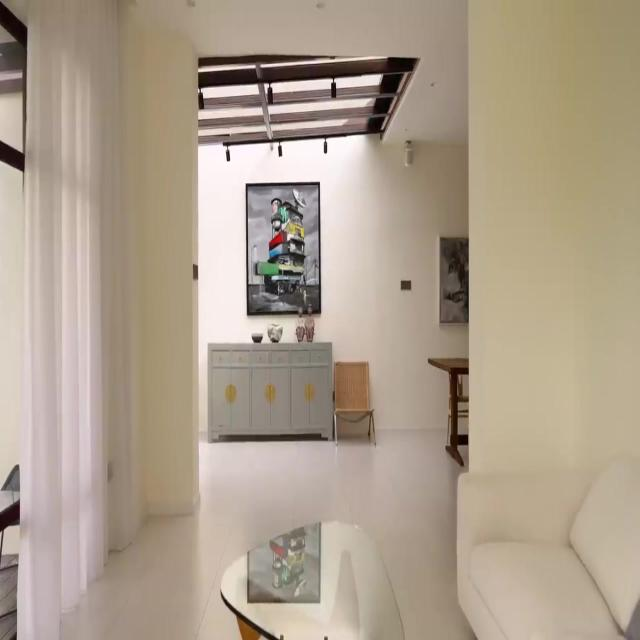obstacle: (456, 450, 640, 638), (220, 519, 405, 639), (428, 356, 468, 466), (332, 360, 376, 446)
